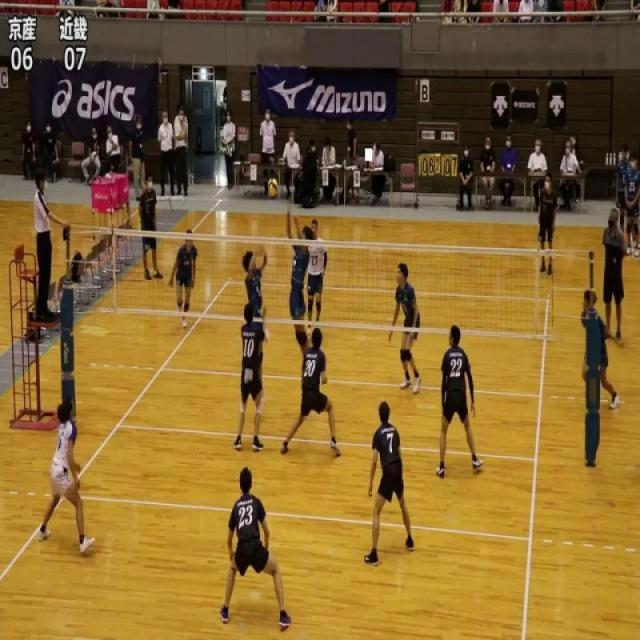volleyball: (268, 176, 278, 200)
